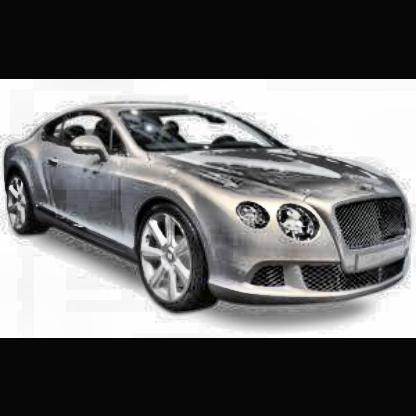Bentley Continental GT Coupe 2012: (2, 99, 416, 320)
